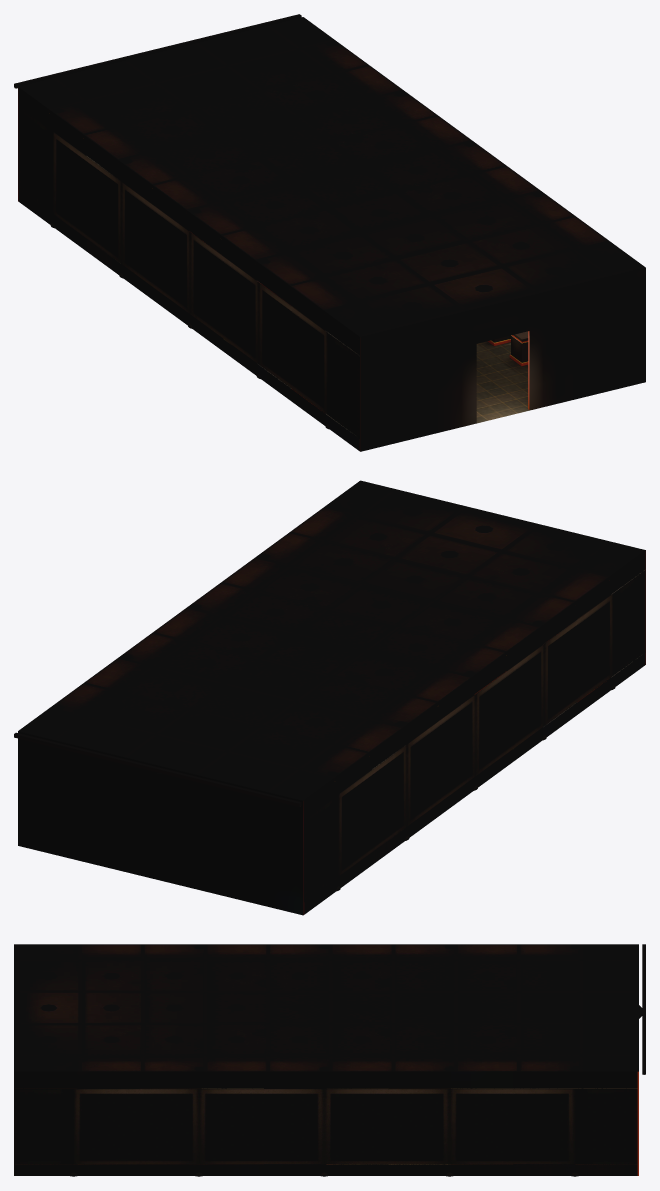
The model's file is lacquer-hall.glb.
The picture shows the model from 3 angles, top to bottom: view 1: azimuth 30°, elevation 25°; view 2: azimuth 150°, elevation 25°; view 3: azimuth 270°, elevation 25°; orthographic projection. The views are drawn at different scales.
Visible parts, largest first — view 1: hall_ceiling, hall_wall_left, hall_ends, hall_floor_a, hall_displays; view 2: hall_ceiling, hall_wall_left, hall_ends; view 3: hall_ceiling, hall_wall_right, hall_ends.
Part boxes in pixels (<box>): hall_ceiling: <box>14,14,644,339</box>; hall_wall_left: <box>18,87,359,451</box>; hall_ends: <box>18,17,645,451</box>; hall_floor_a: <box>476,341,529,423</box>; hall_displays: <box>487,331,528,366</box>; hall_ceiling: <box>14,481,644,806</box>; hall_wall_left: <box>304,552,645,914</box>; hall_ends: <box>18,480,645,915</box>; hall_ceiling: <box>15,944,645,1074</box>; hall_wall_right: <box>15,1071,637,1176</box>; hall_ends: <box>14,944,638,1175</box>.
Size of the model in its own units: 12.1 by 4.6 by 25.21.
Materials: 9 (8 with a texture image).
